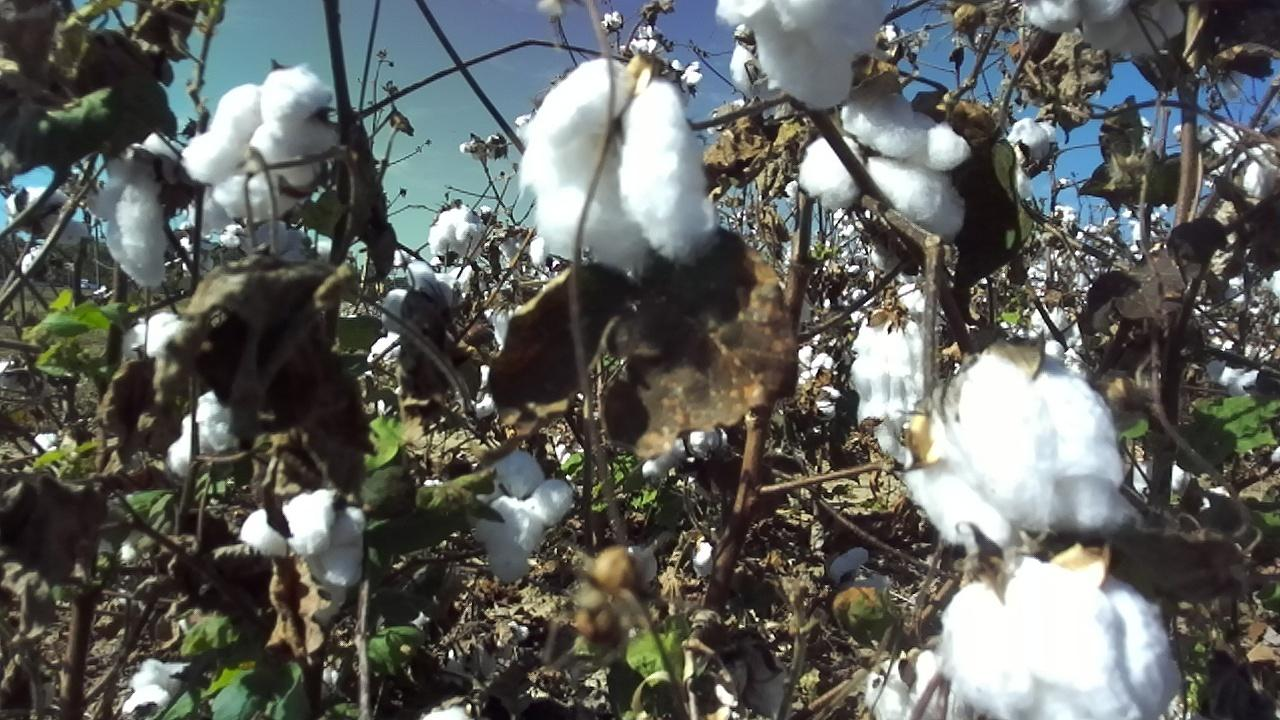cotton_ready: (904, 349, 1132, 551), (517, 52, 715, 273), (944, 554, 1184, 720), (802, 93, 972, 244), (184, 67, 340, 218), (714, 0, 887, 114), (90, 134, 185, 287), (471, 450, 577, 582), (240, 490, 367, 583), (1024, 0, 1185, 57), (852, 310, 932, 419), (865, 649, 954, 720), (1199, 122, 1280, 198), (381, 264, 467, 334), (712, 640, 789, 718), (124, 310, 190, 398), (169, 390, 235, 477), (640, 424, 730, 482), (9, 185, 85, 249), (219, 222, 315, 266), (1009, 117, 1059, 199), (123, 660, 190, 716), (1210, 339, 1272, 395), (827, 544, 892, 594), (797, 346, 842, 415), (429, 202, 480, 258), (484, 304, 532, 351), (464, 362, 497, 421), (423, 705, 490, 720)
